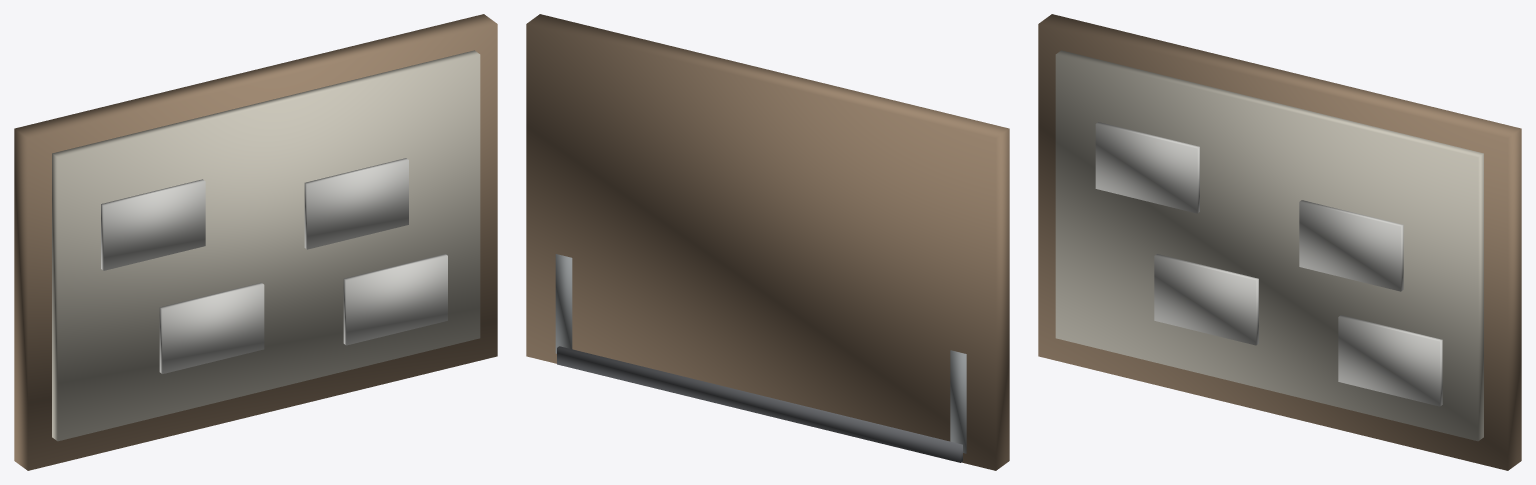
The model's file is chalkboard__reinforced.glb.
The picture shows the model from 3 angles, left to right: view 1: azimuth 30°, elevation 25°; view 2: azimuth 150°, elevation 25°; view 3: azimuth 330°, elevation 25°; orthographic projection.
Parts seen in each view (by area): view 1: world; view 2: world; view 3: world.
Boxes of the visible parts, x1,y1,x2,y2 form: world: [14, 14, 497, 470]; world: [526, 14, 1009, 470]; world: [1038, 14, 1521, 470].
Size of the model in its own units: 1.24 by 0.8364 by 0.1145.
